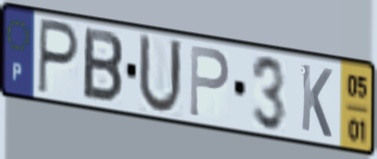3: (249, 54, 289, 133)
B: (80, 24, 125, 107)
K: (299, 61, 334, 141)
P: (35, 15, 82, 99), (187, 42, 231, 120)
U: (136, 30, 185, 118)
